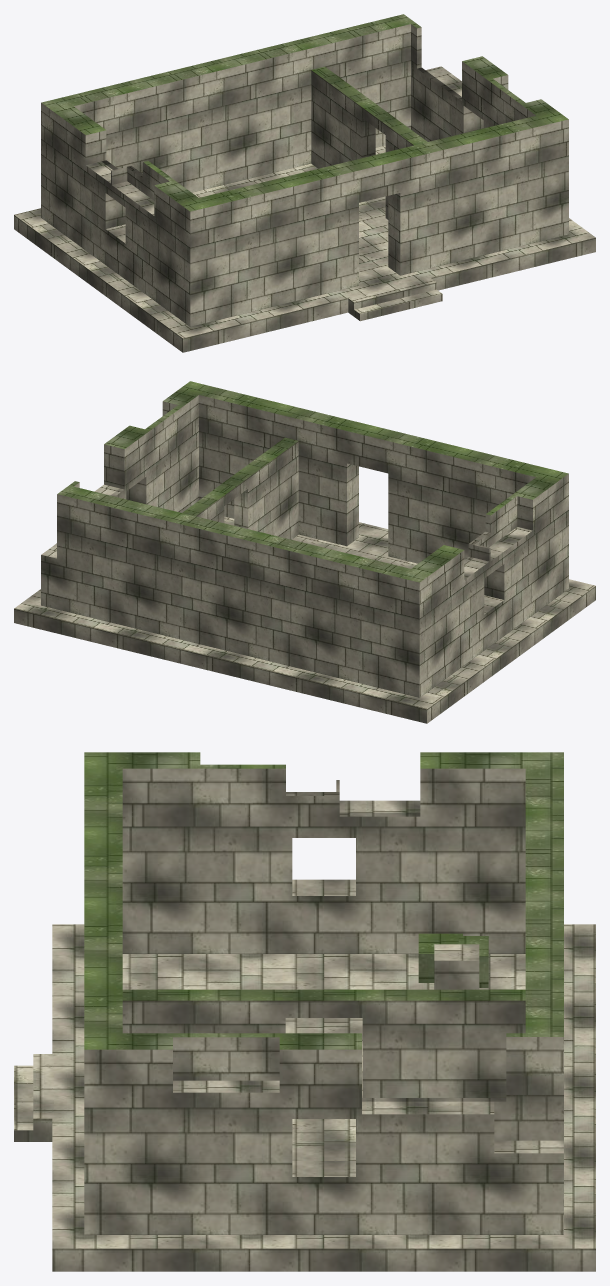
Rendered from ruin-house-b.reveal-v1.lod1.glb.
The picture shows the model from 3 angles, top to bottom: view 1: azimuth 30°, elevation 25°; view 2: azimuth 150°, elevation 25°; view 3: azimuth 270°, elevation 25°; orthographic projection. The views are drawn at different scales.
Parts seen in each view (by area): view 1: ruin-house-b; view 2: ruin-house-b; view 3: ruin-house-b.
Boxes of the visible parts, x1=… form: ruin-house-b: x1=14, y1=14, x2=595, y2=352; ruin-house-b: x1=14, y1=381, x2=595, y2=723; ruin-house-b: x1=14, y1=752, x2=595, y2=1271.
Size of the model in its own units: 12 by 3.6 by 9.1.
2 materials, 2 textured.
